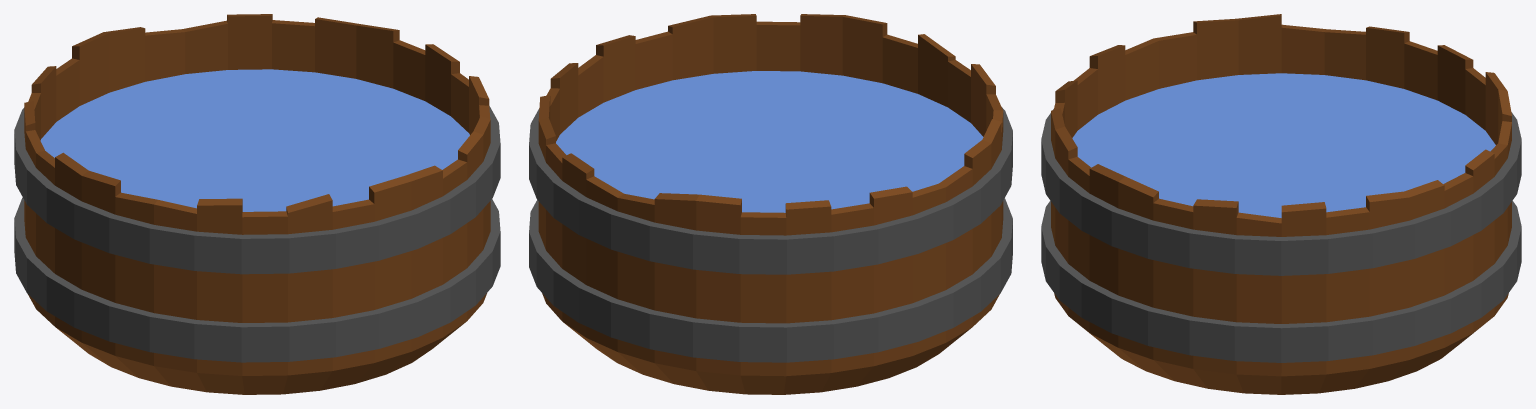
File: Wash_trough.fbx
3 renders of one model, left to right at view 1: azimuth 30°, elevation 25°; view 2: azimuth 150°, elevation 25°; view 3: azimuth 270°, elevation 25°, orthographic.
Parts seen in each view (by area): view 1: Cylinder, Circle, Cylinder.002, Cylinder.001; view 2: Cylinder, Circle, Cylinder.002, Cylinder.001; view 3: Cylinder, Circle, Cylinder.002, Cylinder.001.
Part boxes in pixels (box(x1,y1,x2,y2)): Cylinder: box(24, 14, 490, 394); Circle: box(40, 69, 469, 211); Cylinder.002: box(14, 106, 500, 274); Cylinder.001: box(14, 197, 500, 362); Cylinder: box(538, 14, 1003, 394); Circle: box(556, 71, 983, 212); Cylinder.002: box(529, 107, 1012, 274); Cylinder.001: box(529, 198, 1012, 362); Cylinder: box(1051, 14, 1511, 394); Circle: box(1072, 73, 1495, 217); Cylinder.002: box(1041, 109, 1521, 275); Cylinder.001: box(1041, 201, 1521, 362).
Bounding box in the file's own units: 250 × 118 × 250.
